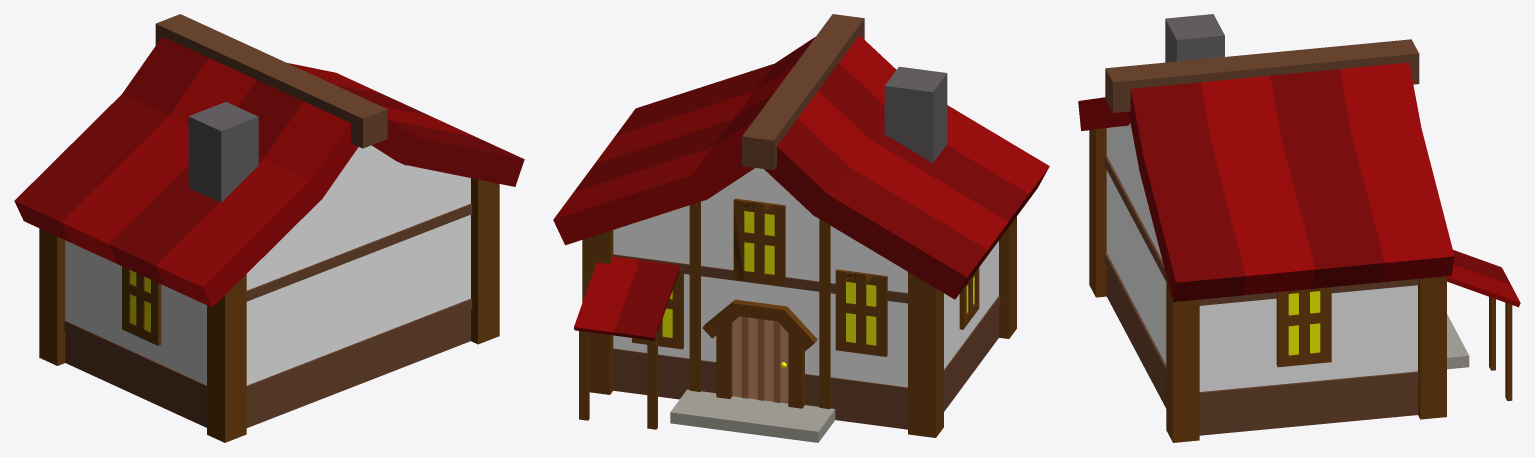
Rendered from pho-nha-nen-1.glb.
The picture shows the model from 3 angles, left to right: view 1: azimuth 30°, elevation 25°; view 2: azimuth 150°, elevation 25°; view 3: azimuth 270°, elevation 25°; orthographic projection. The views are drawn at different scales.
Visible parts, largest first — view 1: pho-nha-nen-1; view 2: pho-nha-nen-1; view 3: pho-nha-nen-1.
Part boxes in pixels (x1,y1,x2,y2): pho-nha-nen-1: (14,14,524,442); pho-nha-nen-1: (553,14,1049,442); pho-nha-nen-1: (1078,14,1520,442).
Bounding box in the file's own units: 45.35 × 29.02 × 40.18.
